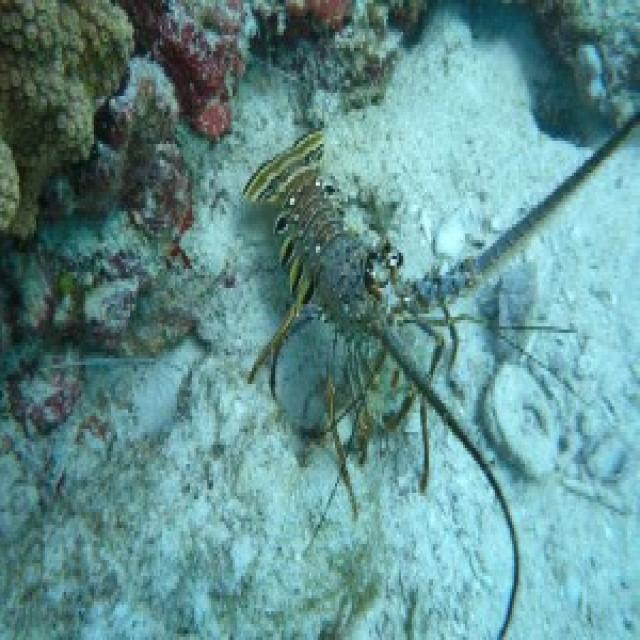lobsters: (160, 101, 562, 546)
